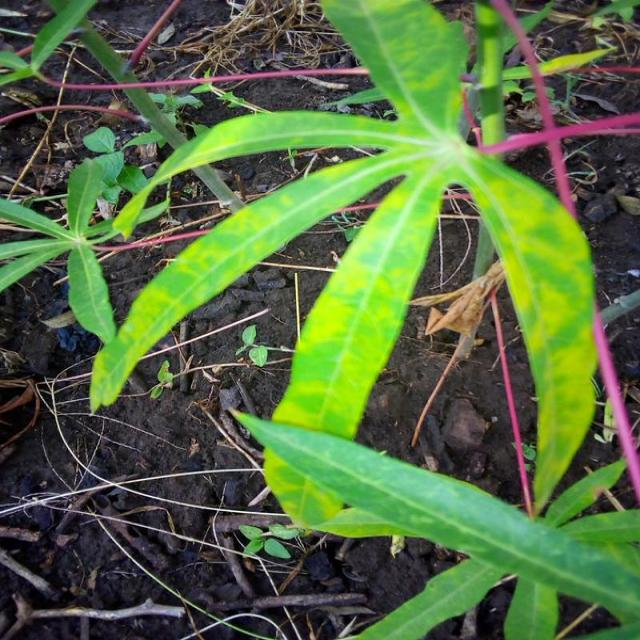cassava leaf: (83, 0, 632, 636)
